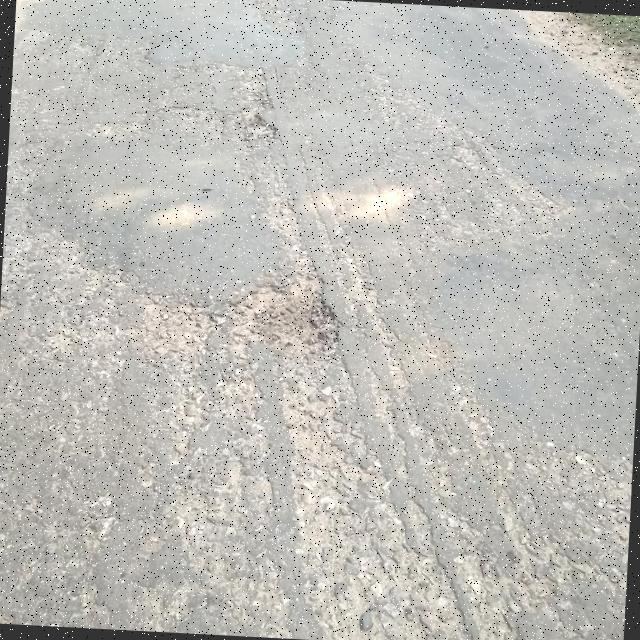Pothole: (141, 272, 351, 362)
